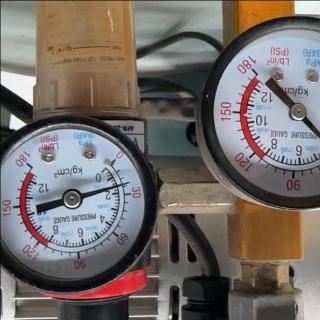gauge: (1, 109, 158, 309), (196, 1, 320, 217), (61, 188, 81, 210), (103, 150, 123, 170), (289, 101, 307, 121), (19, 154, 37, 174), (245, 62, 263, 82), (121, 179, 131, 187)
